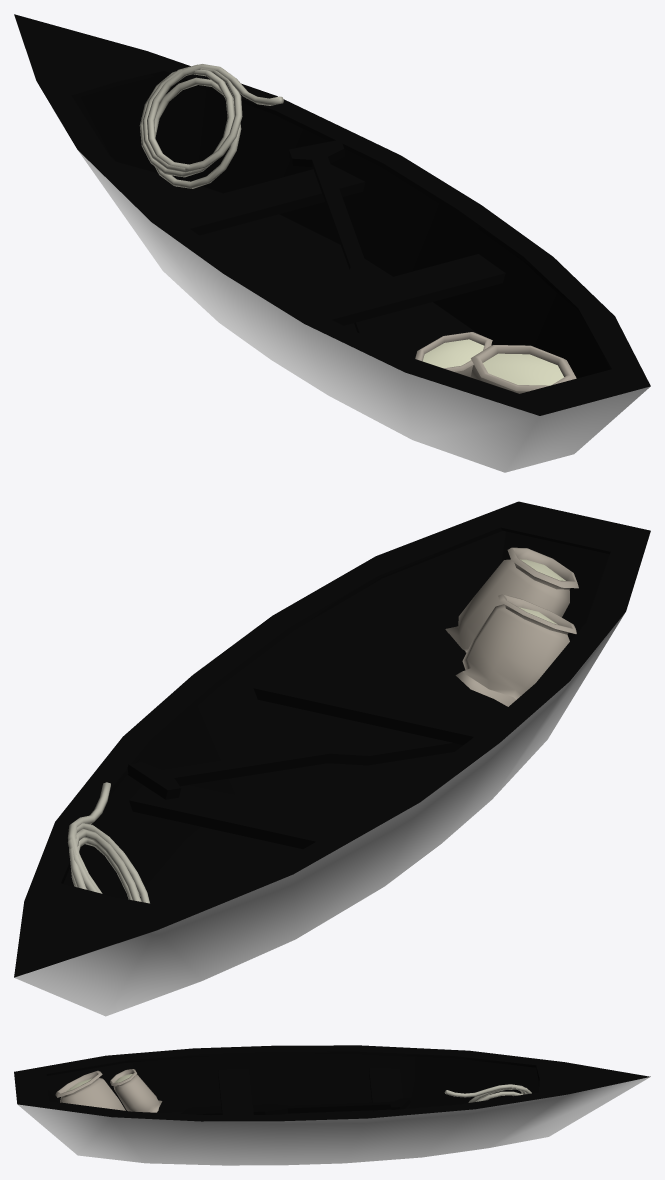
File: grassland_boat.fbx
3 views of the same model, one above another, from view 1: azimuth 30°, elevation 25°; view 2: azimuth 150°, elevation 25°; view 3: azimuth 270°, elevation 25° (orthographic). The views are drawn at different scales.
Parts seen in each view (by area): view 1: Pirogue; view 2: Pirogue; view 3: Pirogue.
Part boxes in pixels (<box>): Pirogue: <box>14,14,650,472</box>; Pirogue: <box>14,501,650,1016</box>; Pirogue: <box>14,1045,650,1165</box>.
Size of the model in its own units: 121 by 53.39 by 430.
